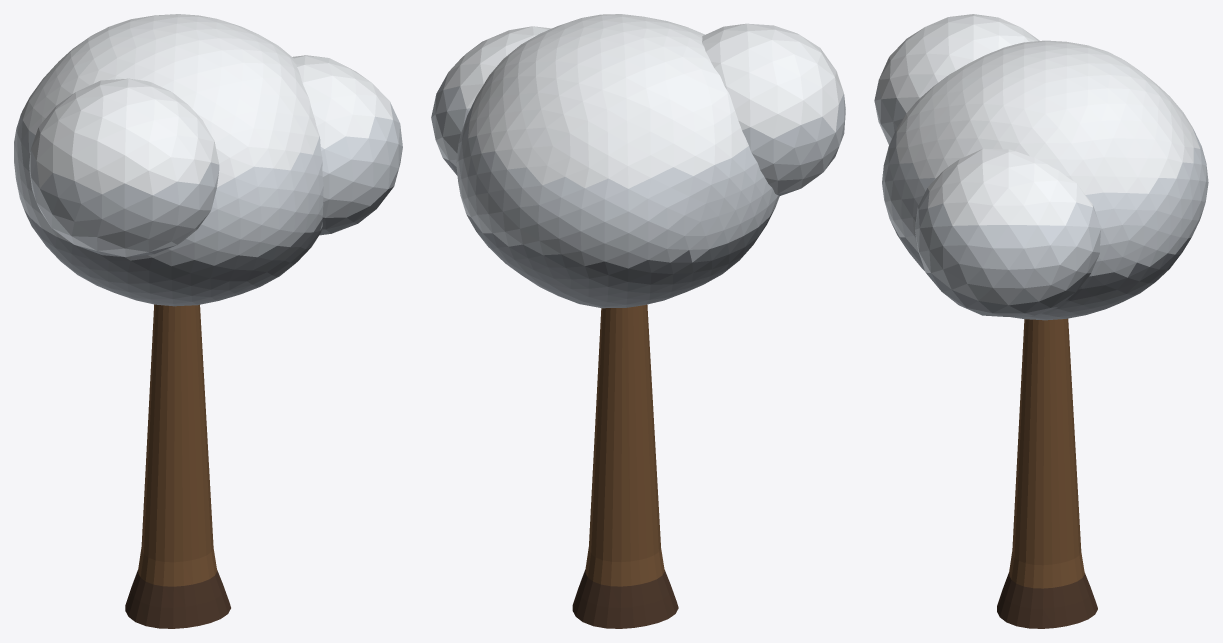
The model's file is BroadleafTreeFar.obj.
3 renders of one model, left to right at view 1: azimuth 30°, elevation 25°; view 2: azimuth 150°, elevation 25°; view 3: azimuth 270°, elevation 25°, orthographic. The views are drawn at different scales.
Bounding box in the file's own units: 8.43 × 12.52 × 6.91.
